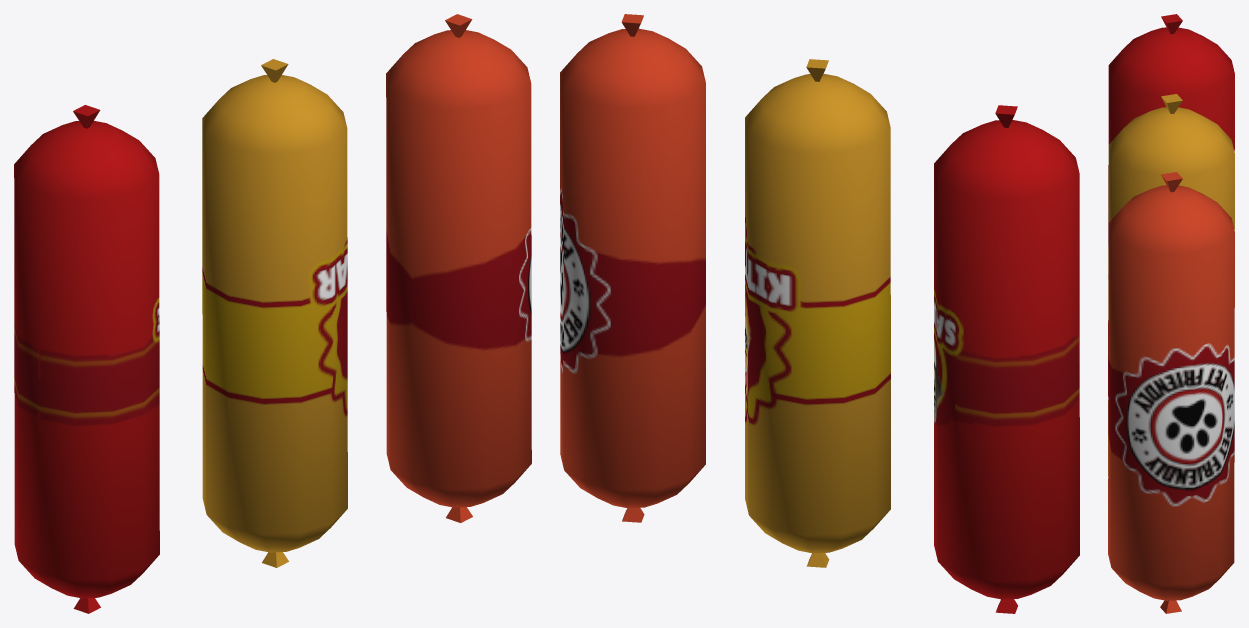
3 views of the same model, side by side, from view 1: azimuth 30°, elevation 25°; view 2: azimuth 150°, elevation 25°; view 3: azimuth 270°, elevation 25° (orthographic). The views are drawn at different scales.
Parts seen in each view (by area): view 1: Sausage 1_Sausage 1_0, Sausage 1_Sausage 1_0.002, Sausage 1_Sausage 1_0.001; view 2: Sausage 1_Sausage 1_0.001, Sausage 1_Sausage 1_0.002, Sausage 1_Sausage 1_0; view 3: Sausage 1_Sausage 1_0.002, Sausage 1_Sausage 1_0, Sausage 1_Sausage 1_0.001.
Boxes of the visible parts, x1,y1,x2,y2 form: Sausage 1_Sausage 1_0: (14,105,159,613); Sausage 1_Sausage 1_0.002: (386,14,531,522); Sausage 1_Sausage 1_0.001: (202,59,347,567); Sausage 1_Sausage 1_0.001: (745,59,890,567); Sausage 1_Sausage 1_0.002: (560,14,705,522); Sausage 1_Sausage 1_0: (934,105,1079,613); Sausage 1_Sausage 1_0.002: (1108,172,1234,613); Sausage 1_Sausage 1_0: (1108,14,1234,396); Sausage 1_Sausage 1_0.001: (1108,94,1234,476).
Size of the model in its own units: 65.24 by 62.27 by 16.56.
